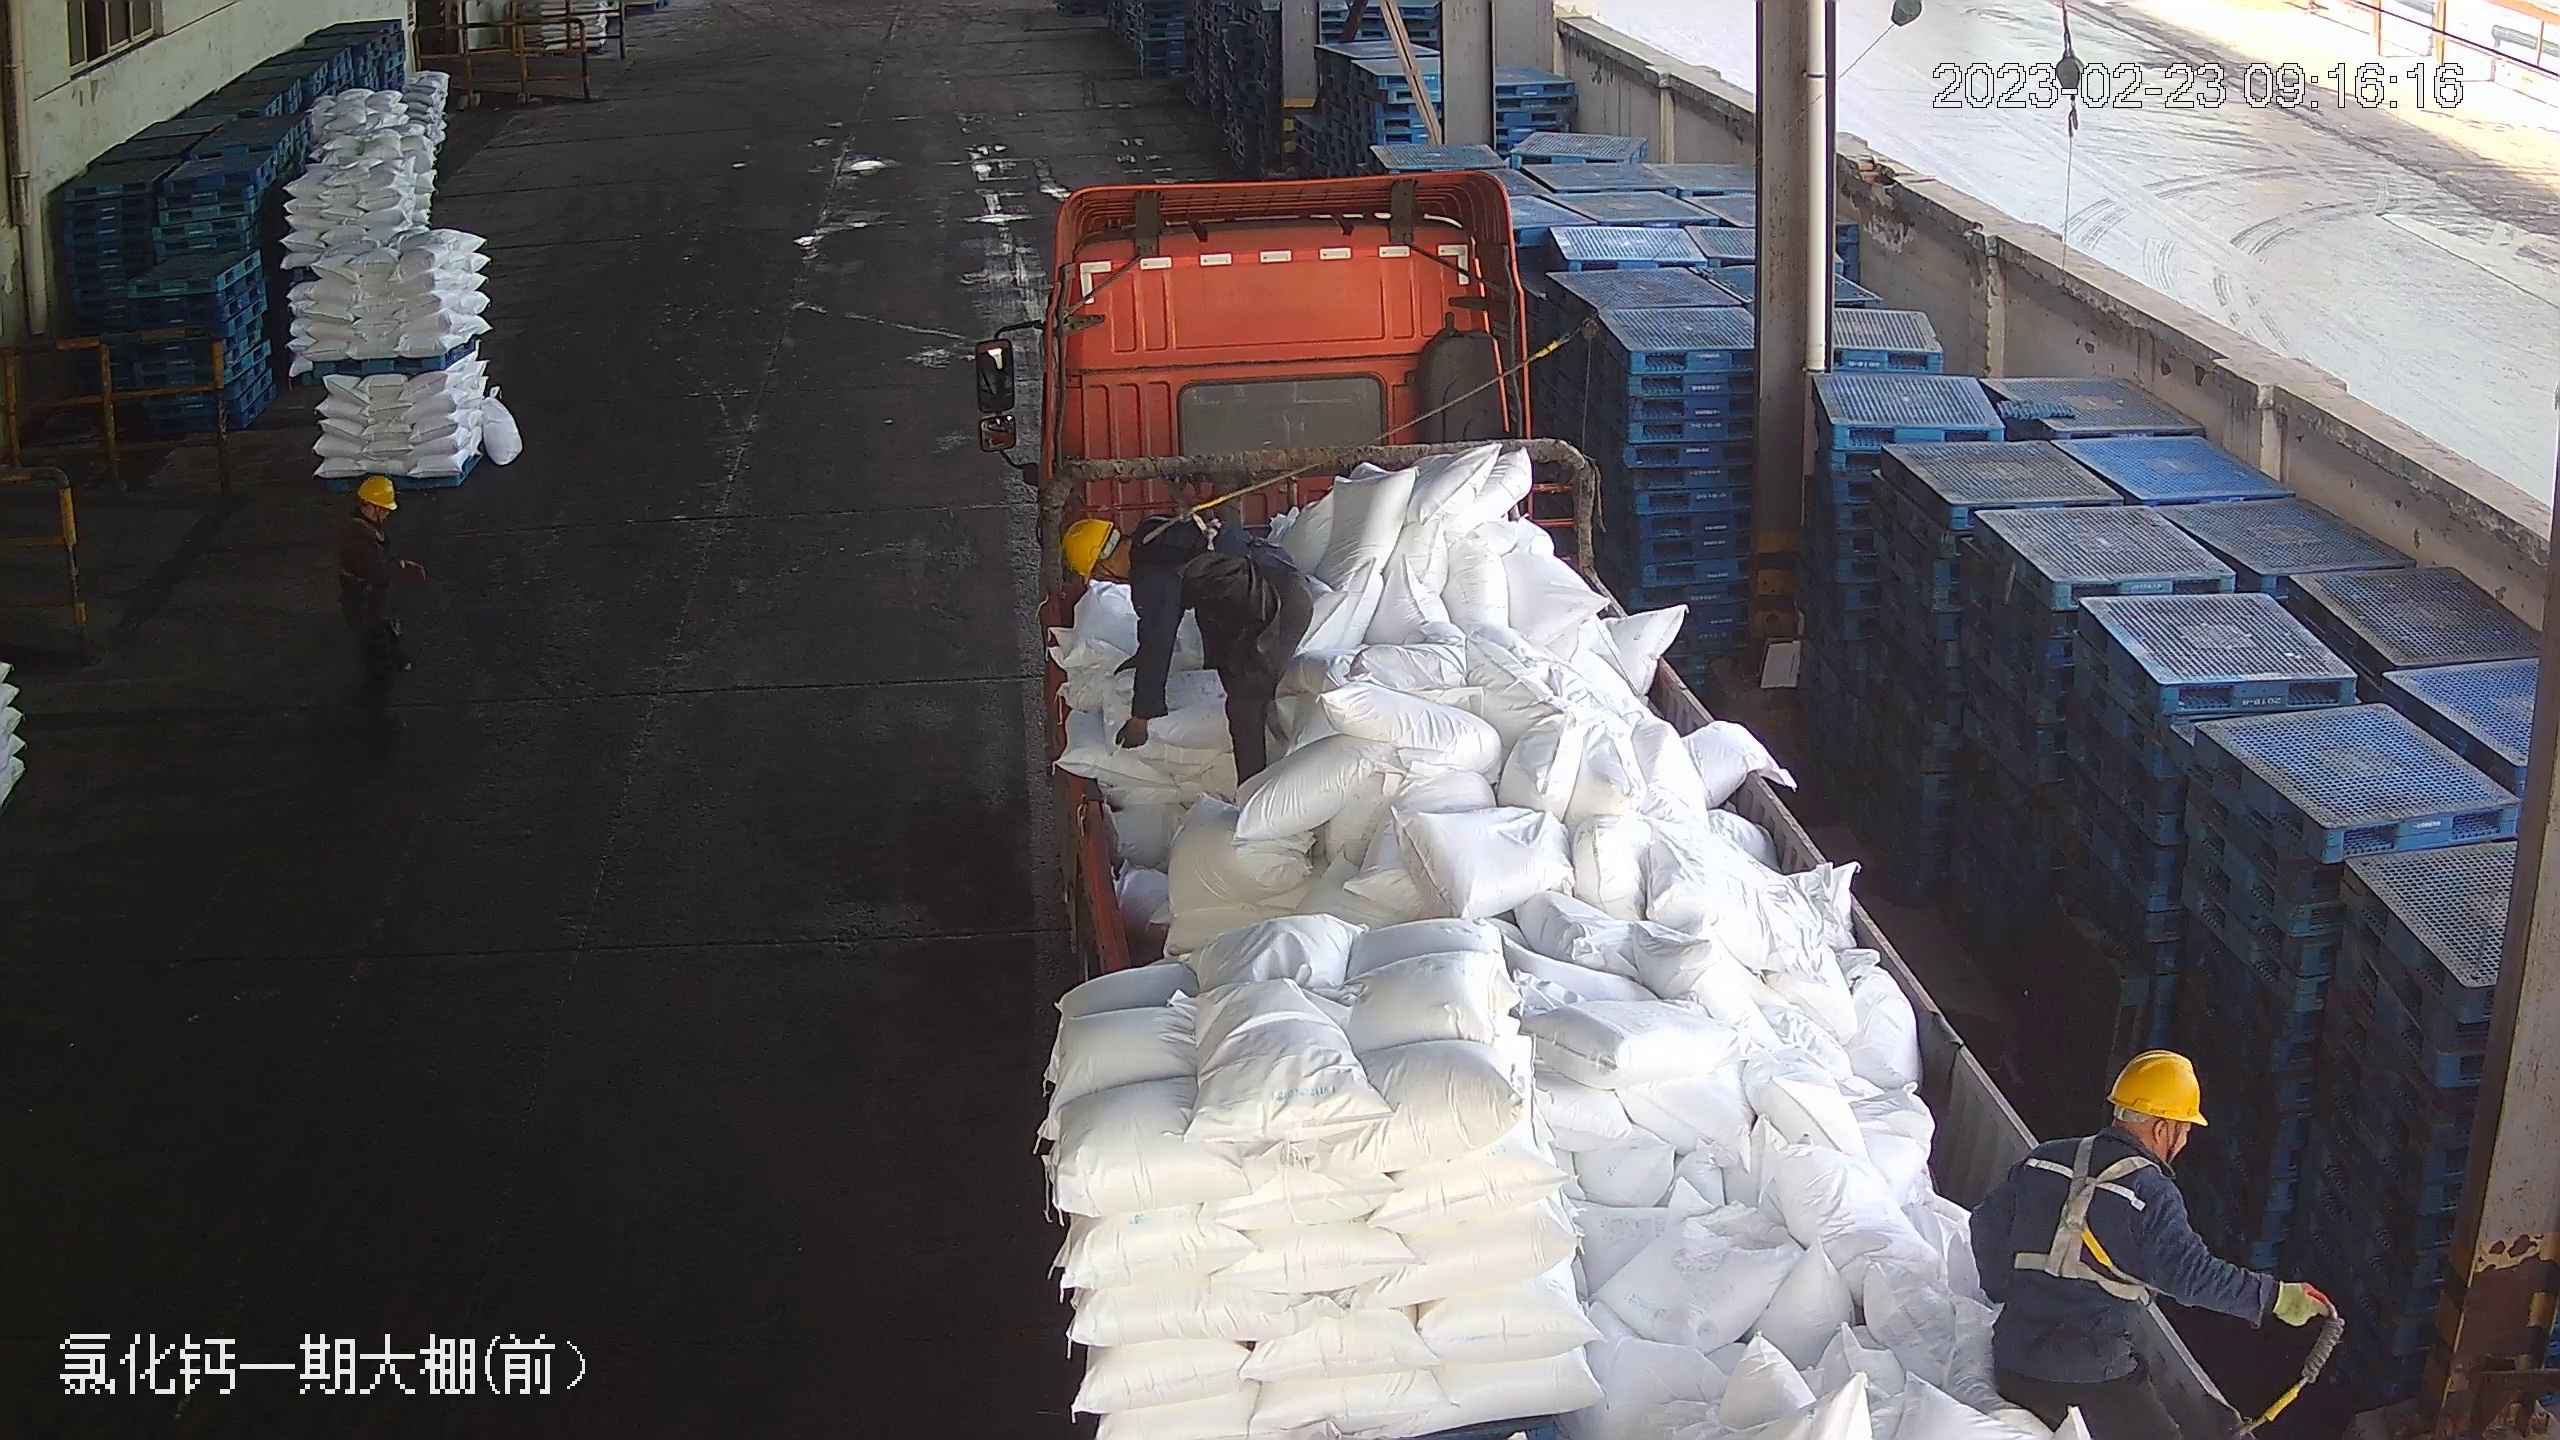belt: (2023, 1141, 2171, 1295), (1128, 490, 1226, 551), (354, 510, 394, 546)
head: (2018, 1046, 2213, 1235), (1059, 508, 1221, 626), (335, 472, 411, 559)
helmet: (2107, 1047, 2205, 1124), (1060, 515, 1116, 588), (352, 471, 399, 508)
people: (1977, 1045, 2340, 1434), (1058, 505, 1322, 794), (331, 471, 428, 735)
truck: (969, 169, 2261, 1433)
